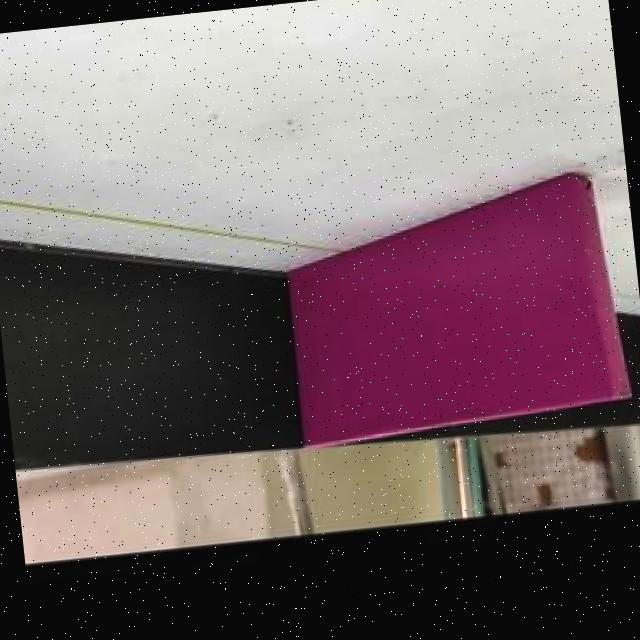xparking: (276, 192, 608, 428)
